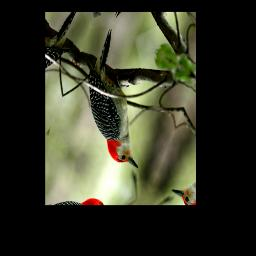Woodpecker: (61, 23, 177, 175)
